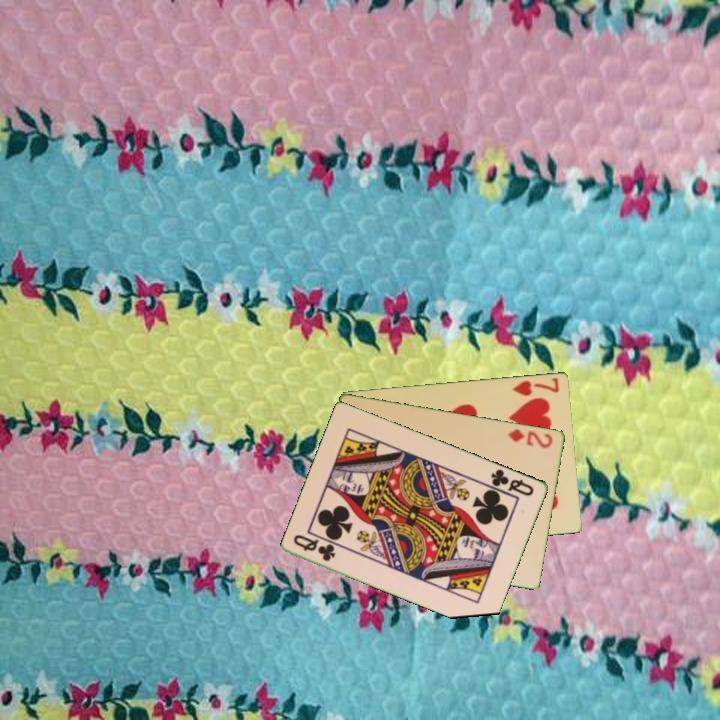2d: (505, 425, 556, 451)
7h: (509, 374, 562, 398)
Qc: (487, 465, 537, 499), (290, 531, 339, 564)
